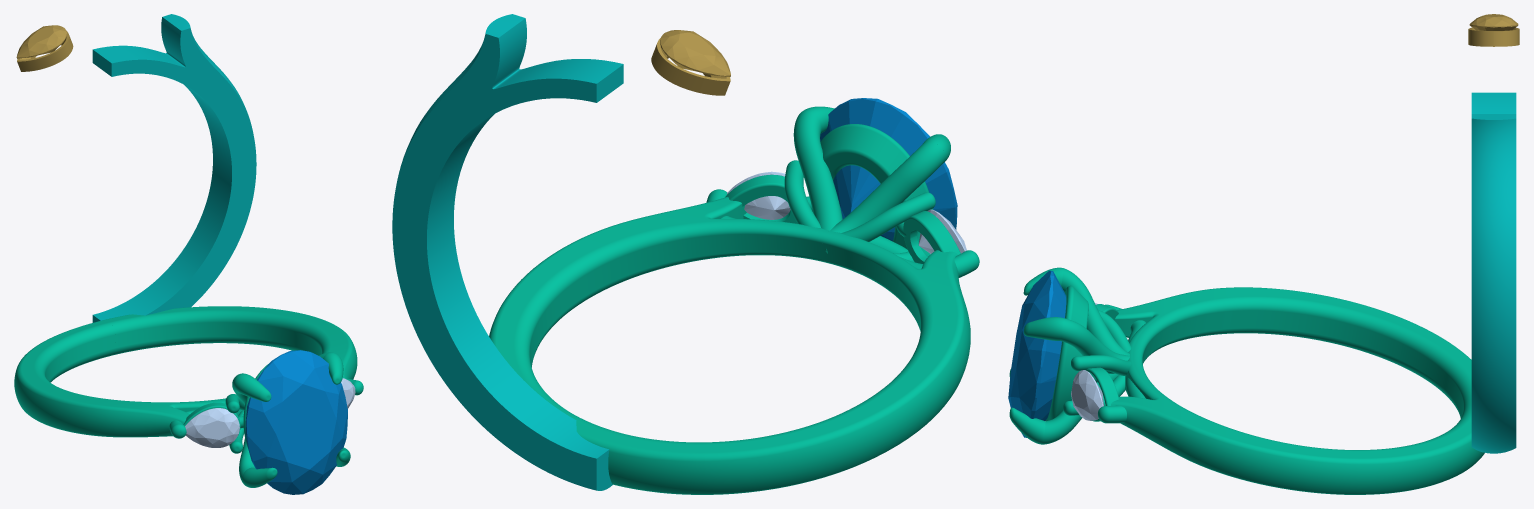
The picture shows the model from 3 angles, left to right: view 1: azimuth 30°, elevation 25°; view 2: azimuth 150°, elevation 25°; view 3: azimuth 270°, elevation 25°; orthographic projection. The views are drawn at different scales.
Visible parts, largest first — view 1: VR350(base).3dm, Diamond_Oval, Diamond_Pear (×2), Bezel; view 2: VR350(base).3dm, Diamond_Oval, Bezel (×3), Diamond_Pear (×2); view 3: VR350(base).3dm, Diamond_Oval, Diamond_Pear (×2), Bezel (×2).
Boxes of the visible parts, x1=… form: VR350(base).3dm: x1=14, y1=14, x2=363, y2=487; Diamond_Oval: x1=245, y1=350, x2=347, y2=494; Diamond_Pear (×2): x1=16, y1=25, x2=239, y2=447; Bezel: x1=17, y1=31, x2=73, y2=71; VR350(base).3dm: x1=392, y1=14, x2=979, y2=494; Diamond_Oval: x1=820, y1=98, x2=957, y2=241; Bezel (×3): x1=651, y1=38, x2=960, y2=263; Diamond_Pear (×2): x1=660, y1=30, x2=790, y2=219; VR350(base).3dm: x1=1009, y1=92, x2=1516, y2=494; Diamond_Oval: x1=1008, y1=270, x2=1066, y2=437; Diamond_Pear (×2): x1=1071, y1=14, x2=1518, y2=420; Bezel (×2): x1=1086, y1=27, x2=1519, y2=421.
Size of what is drawn, in the model's own units: 2.45 by 2.62 by 3.11.
